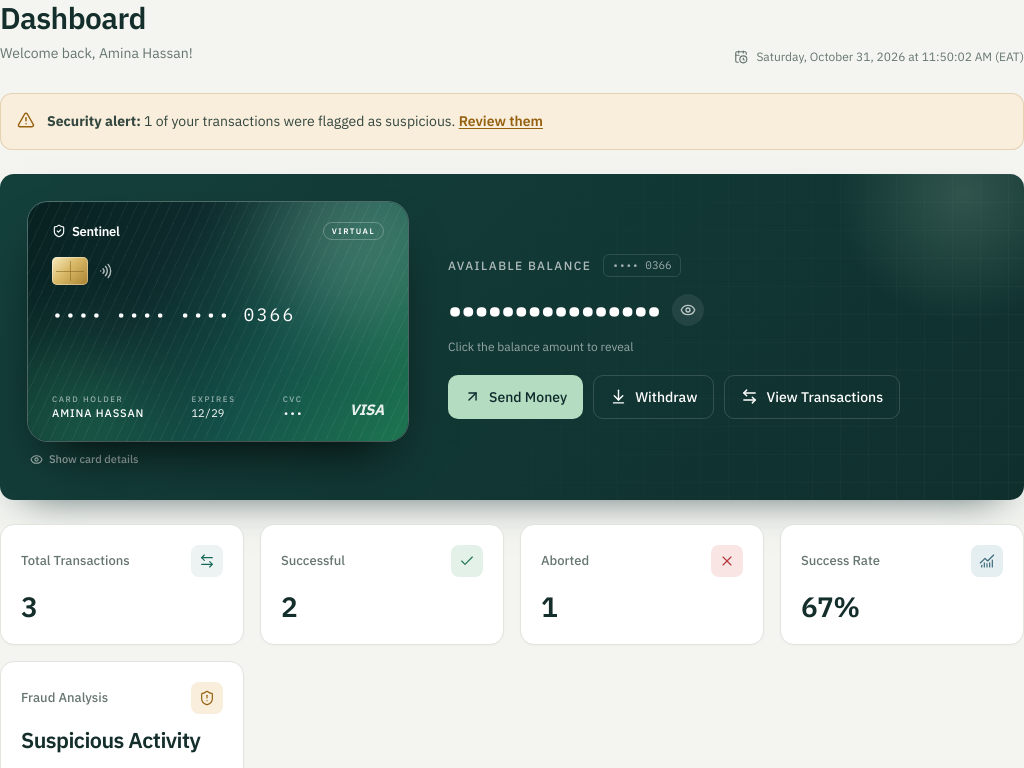
Test: UserDashboardPage › masks the balance until the password is verified, then shows it
The image size is (1024, 768).
Check: the text "••••••••••••••••" is shown, box [448,289,660,331]
Check: the text "Click the balance amount to reveal" is shown, box [448,339,634,354]
Click the button named "reveal balance" at coordinates (576, 310), box [448,289,704,331]
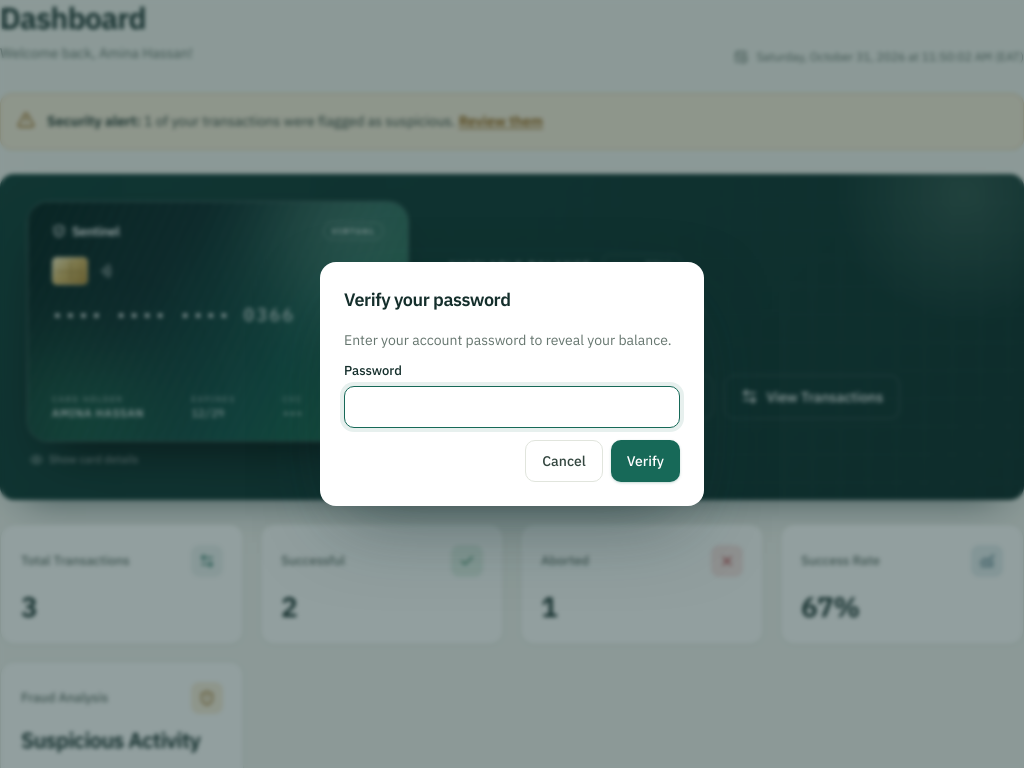
Type "secret" into the password field labelled "Password" at coordinates (512, 407), box [344,386,680,428]
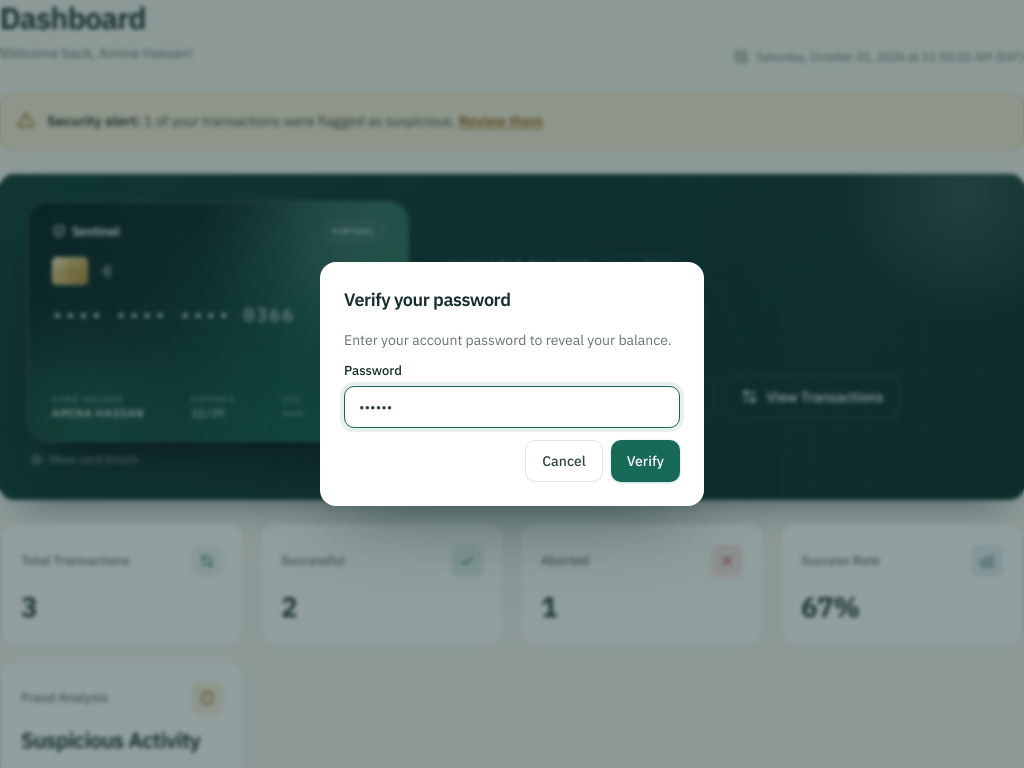
Click the button "Verify" at coordinates (645, 461), box [611,440,680,482]
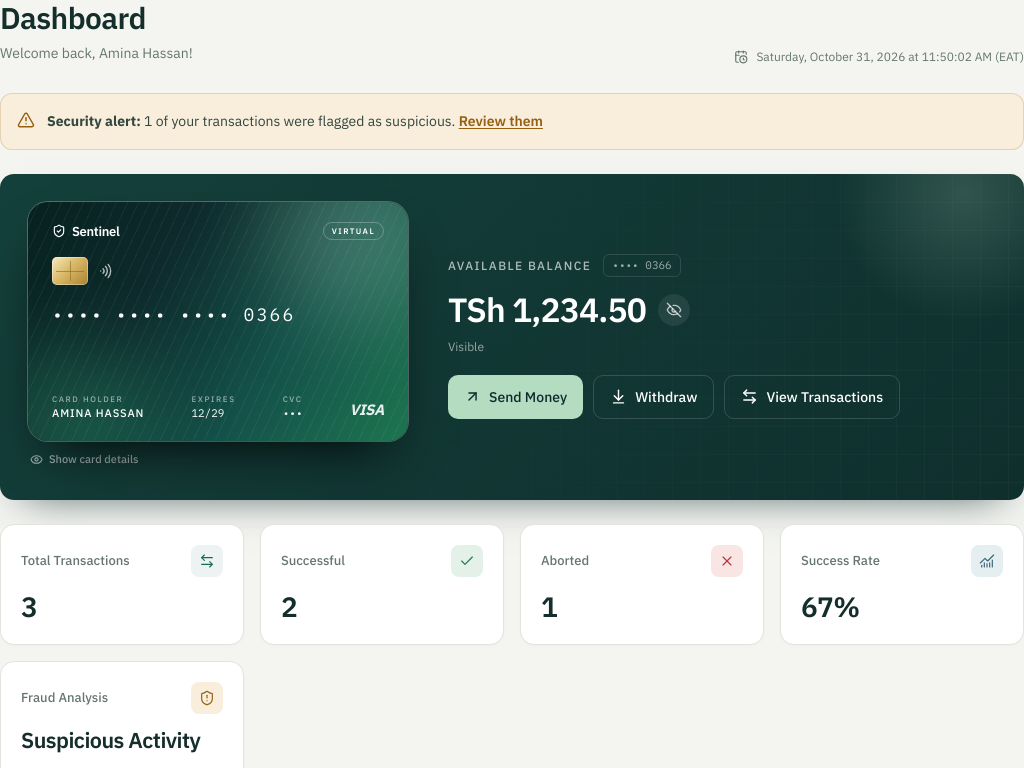
Check: the text "TSh 1,234.50" is shown, box [448,289,646,331]
Check: the text "Visible" is shown, box [448,339,484,354]
Check: the dialog is gone
